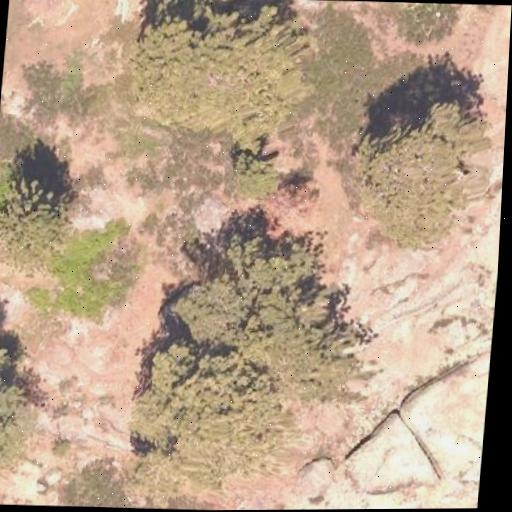tree-top: (107, 227, 366, 475), (335, 74, 508, 255), (119, 0, 318, 148), (0, 320, 59, 485), (0, 157, 77, 264), (223, 148, 289, 202)
